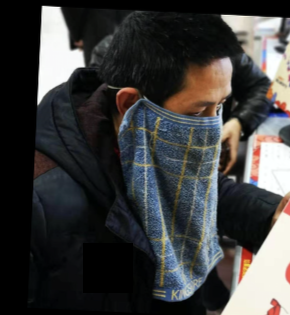with_mask: (138, 88, 231, 183)
